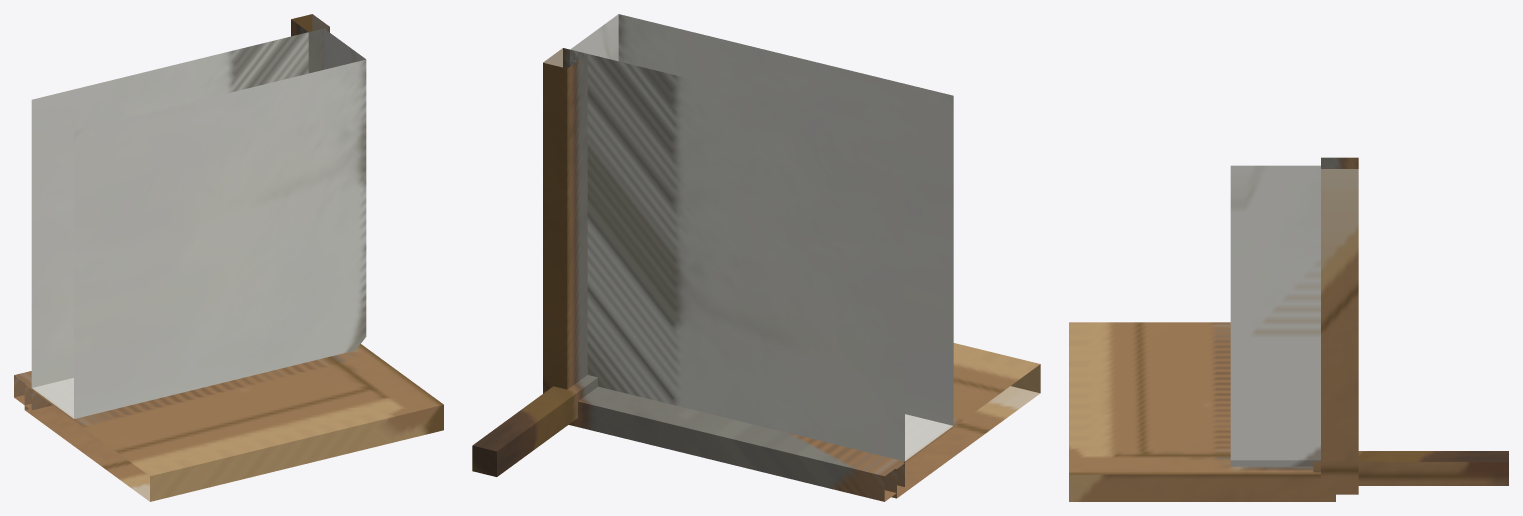
File: pz_bed_bedding_01_large_oak_1_0.obj
3 renders of one model, left to right at view 1: azimuth 30°, elevation 25°; view 2: azimuth 150°, elevation 25°; view 3: azimuth 270°, elevation 25°, orthographic. The views are drawn at different scales.
Size of the model in its own units: 0.975 by 0.985 by 1.17.
Materials: 1 (1 with a texture image).
